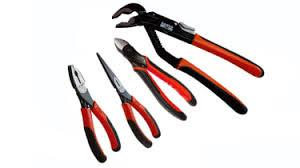pliers: (110, 2, 263, 114), (112, 36, 196, 120), (94, 50, 160, 148), (65, 62, 121, 167)
